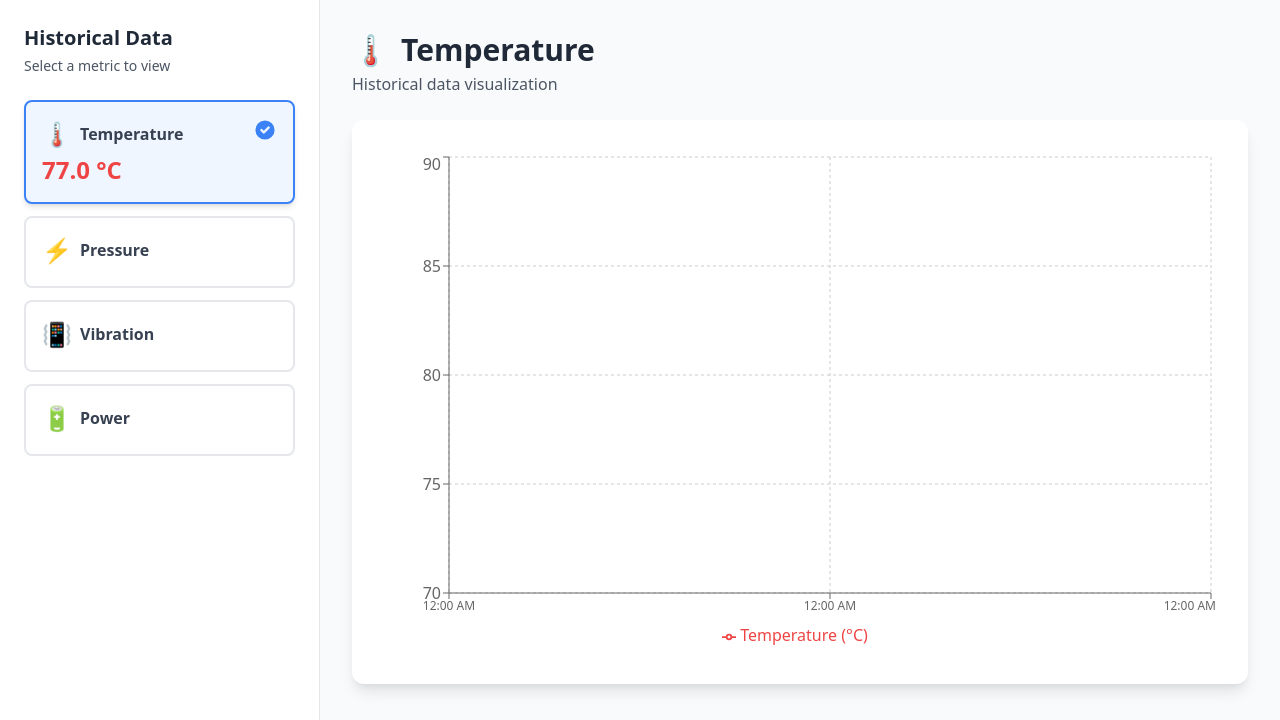
Test case: HistoricalDashboard › Metric Switching › should switch to pressure metric when clicked
Click the button "⚡ Pressure".
click(115, 250)  # box [24,216,295,288]
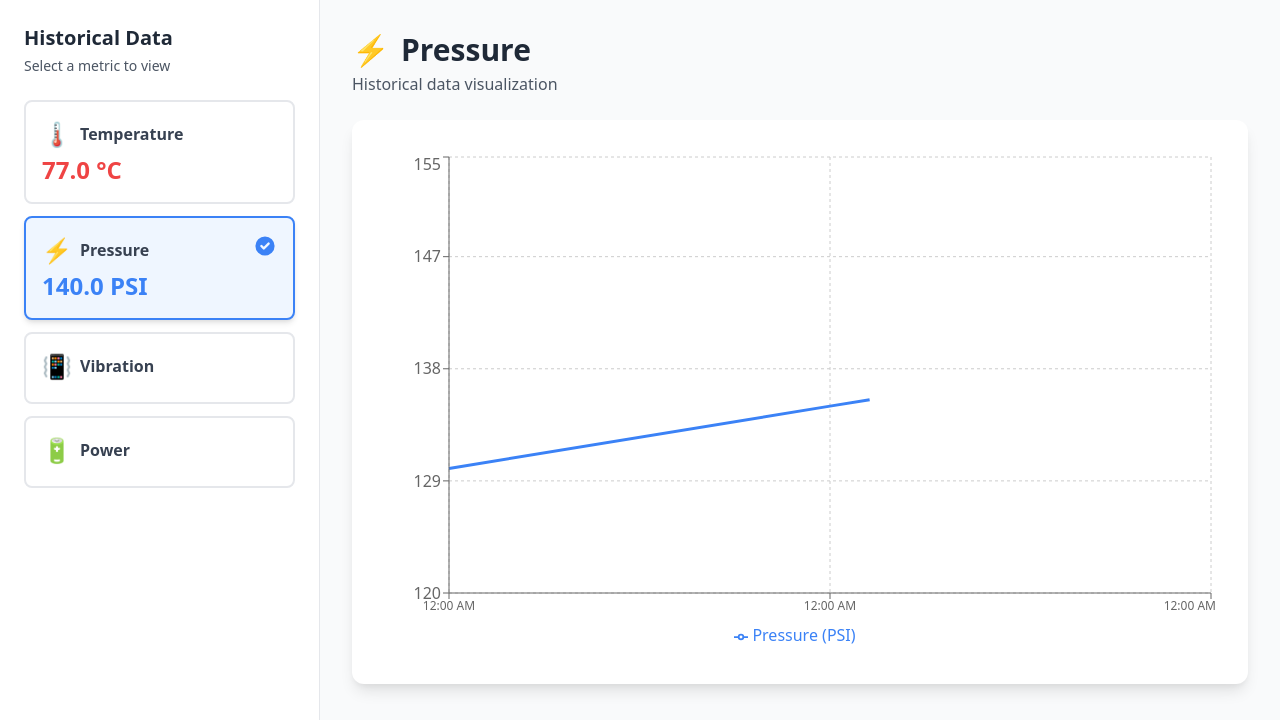
Now the text "140.0 PSI" is shown, box [42,269,148,302]
